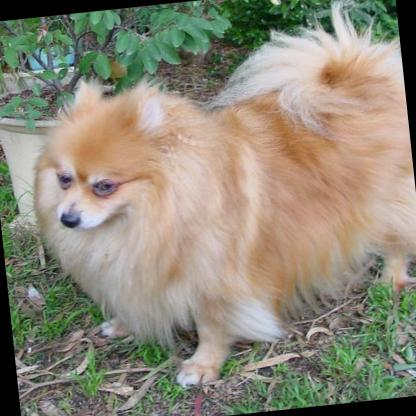Pomeranian: (12, 0, 416, 402)
